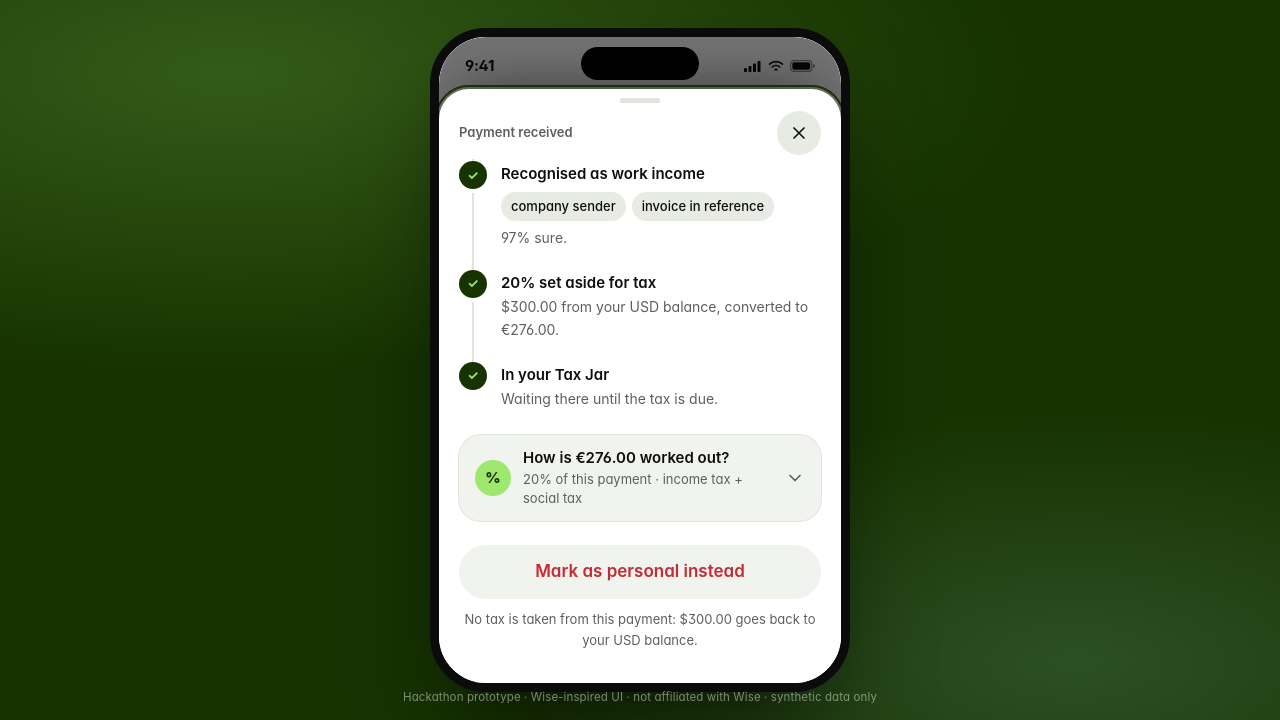
Scenario: the breakdown button opens each tax as a share of the payment
(page scrolled)
What coordinates should you click on to do the following:
click the button "How is €276.00 worked out?"
I would click on:
 (640, 478)
Its box is left=459, top=435, right=821, bottom=521.
(page scrolled)
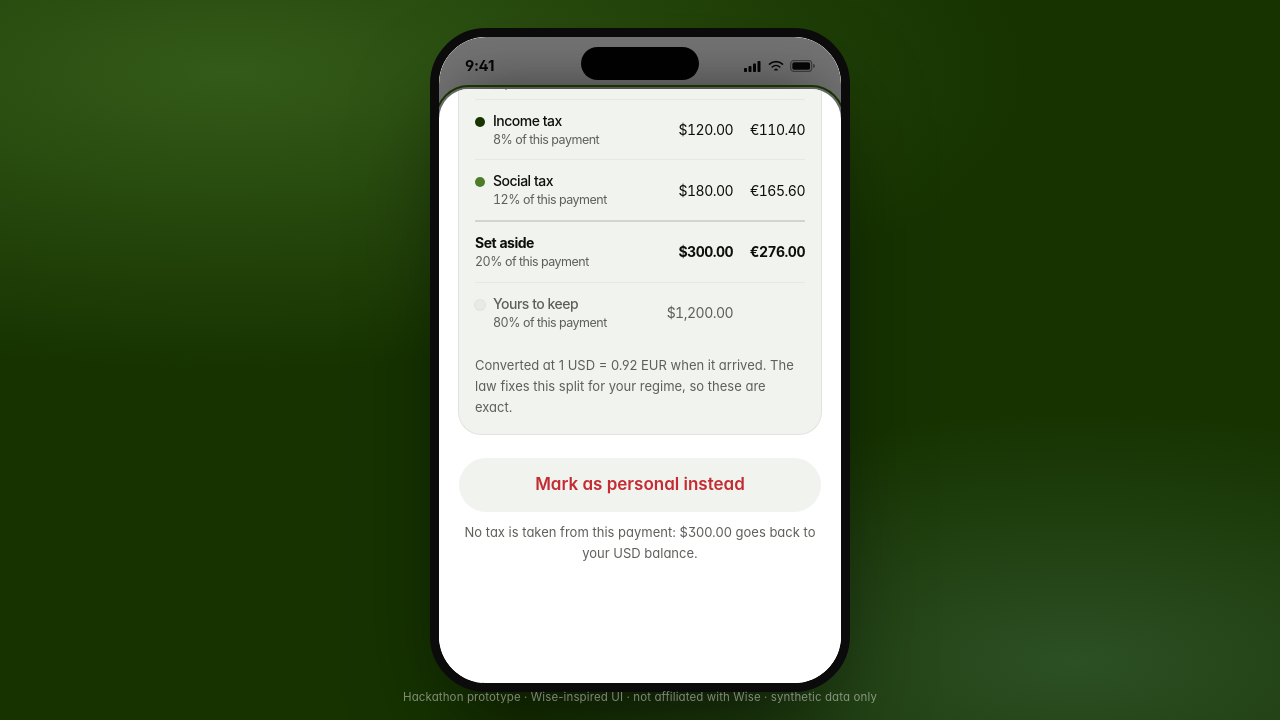
Now the row "Income tax 8% of this payment $120.00 €110.40" is shown, box left=475, top=99, right=805, bottom=160
Now the row "Social tax 12% of this payment $180.00 €165.60" is shown, box left=475, top=160, right=805, bottom=221
Now the row "Set aside 20% of this payment $300.00 €276.00" is shown, box left=475, top=221, right=805, bottom=282
